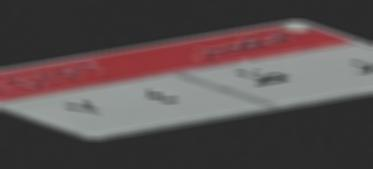4: (140, 82, 183, 113)
7: (60, 96, 102, 124)
Thaa: (232, 64, 296, 96)
raa: (343, 56, 373, 88)
